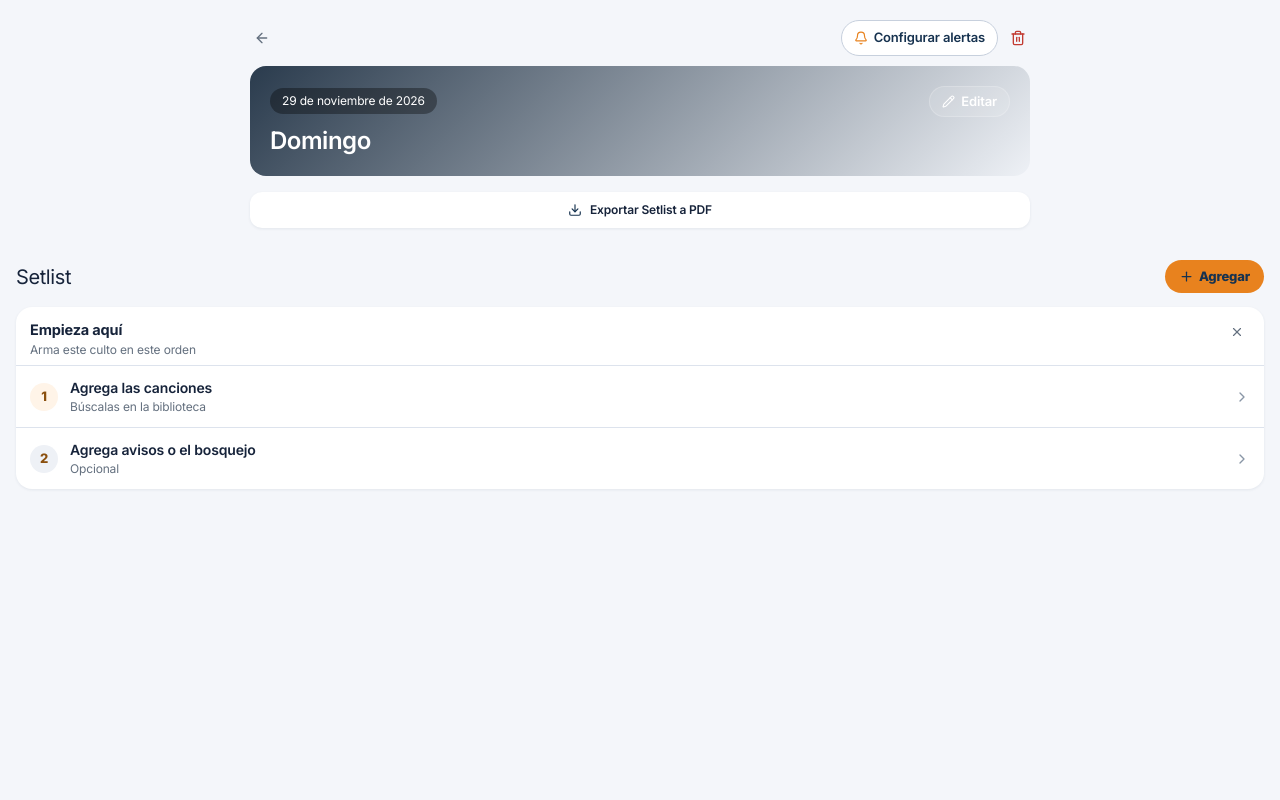
Test case: Crear canción desde el setlist › la X borra lo escrito en el buscador
Click the button "Agregar" at (1214, 277), box [1165,260,1264,293]
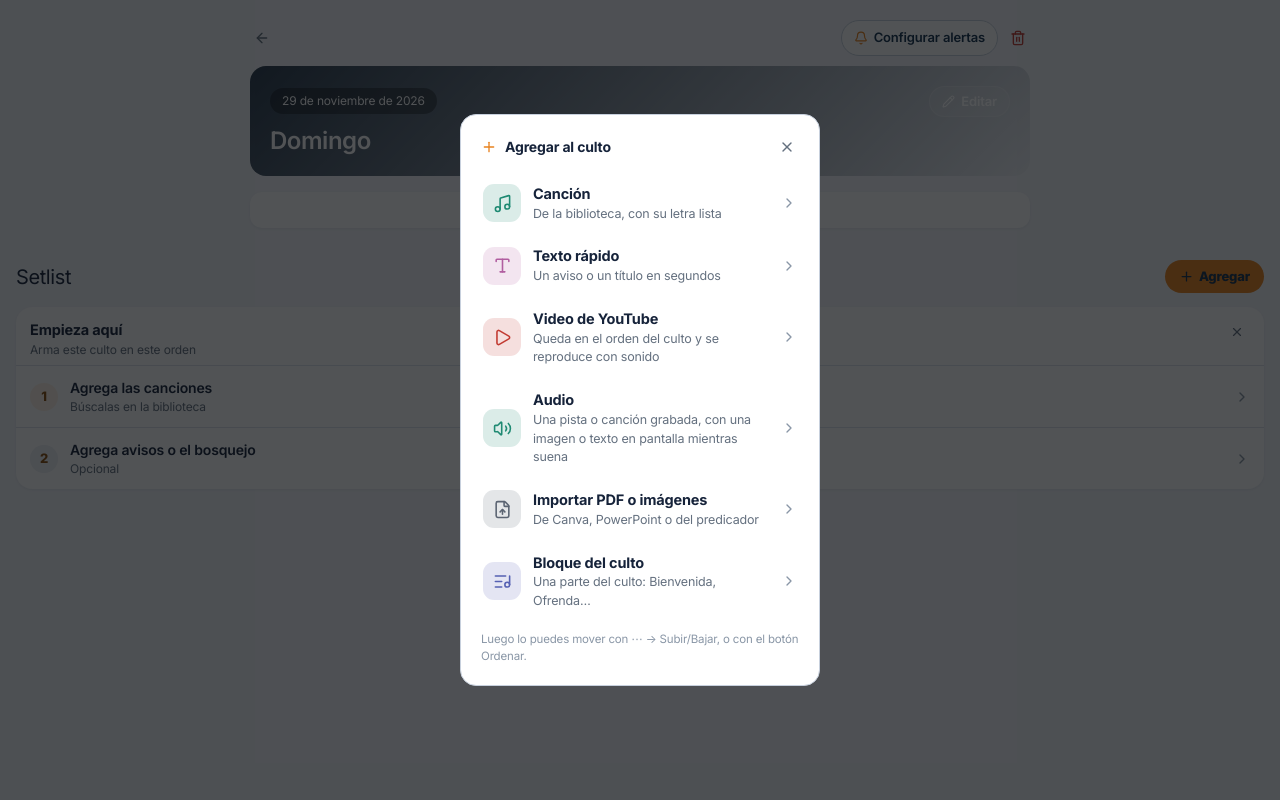
Click the button "Canción De la biblioteca, con su letra lista" at (640, 203), box [475,173,805,233]
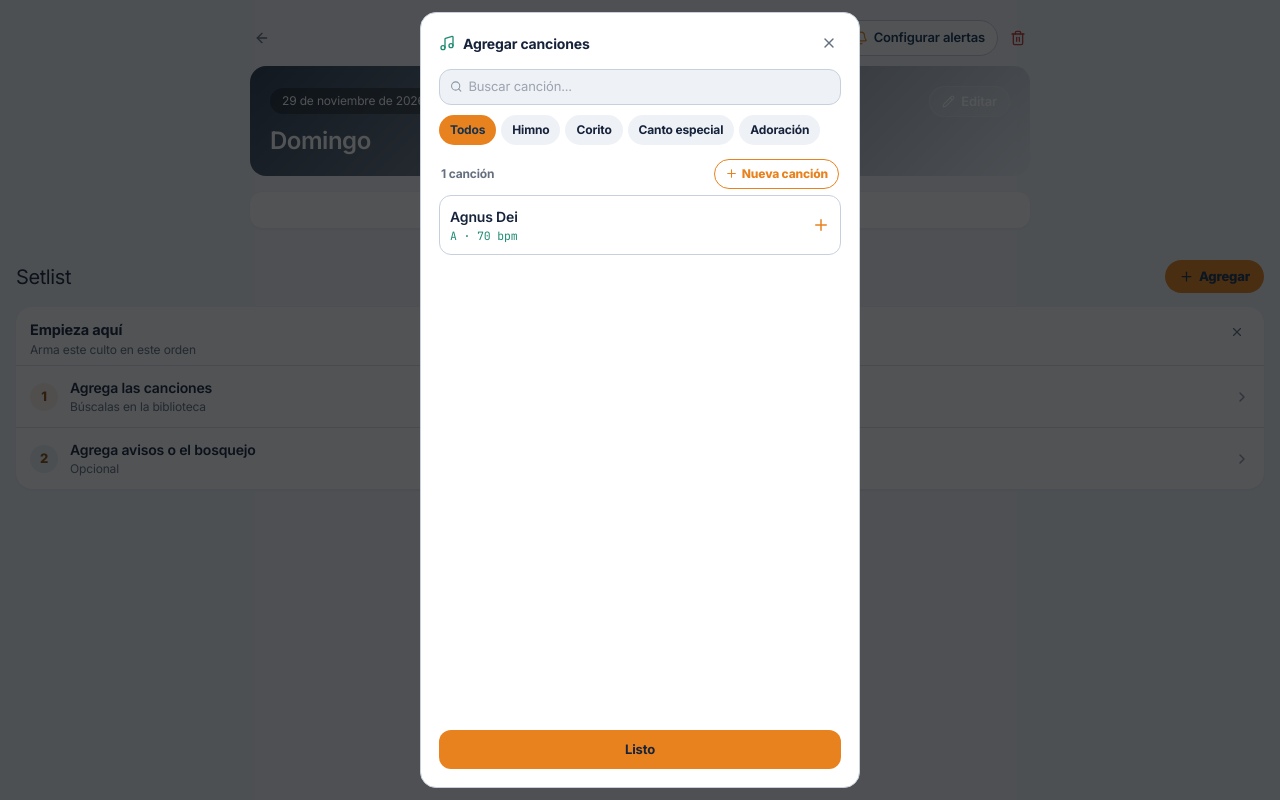
Type "agnus" into the field with placeholder "Buscar canción..." at (649, 87), box [468,77,830,96]
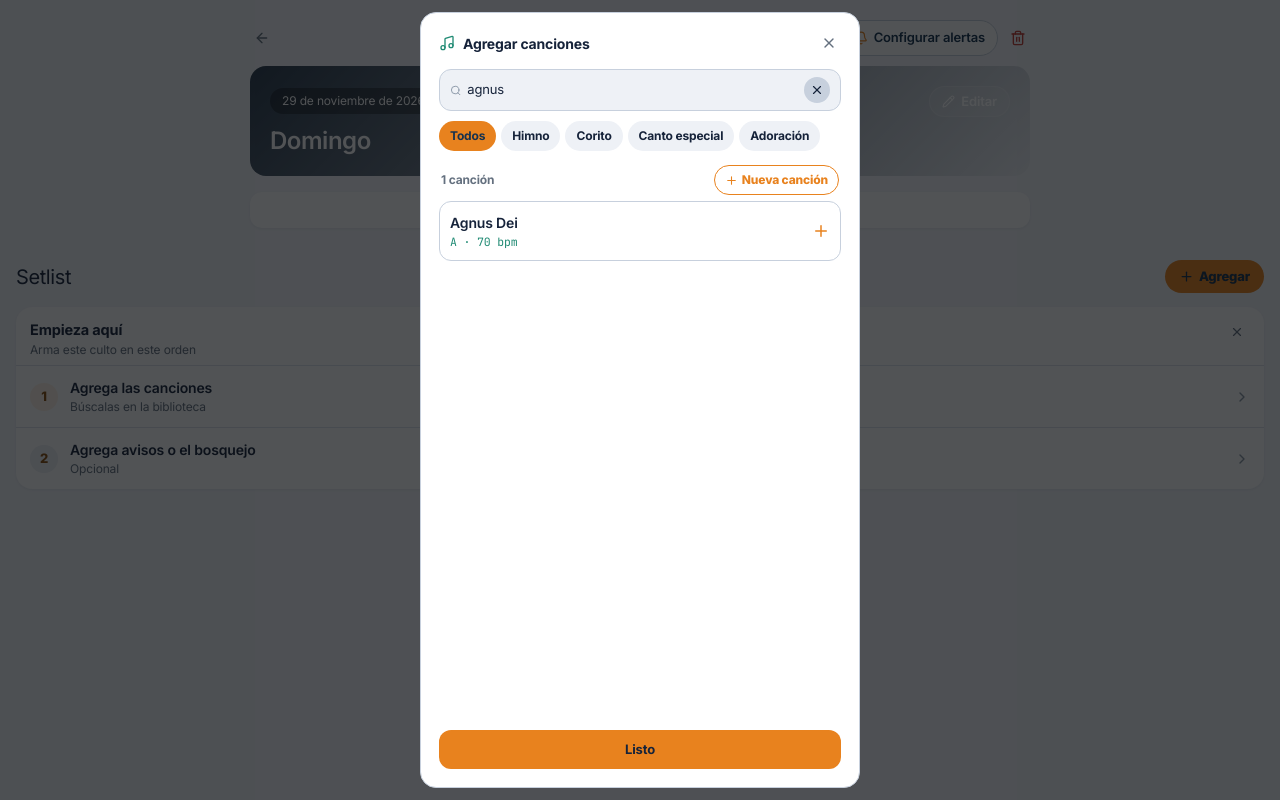
Click the button named "Borrar búsqueda" at (817, 90), box [804,77,830,103]
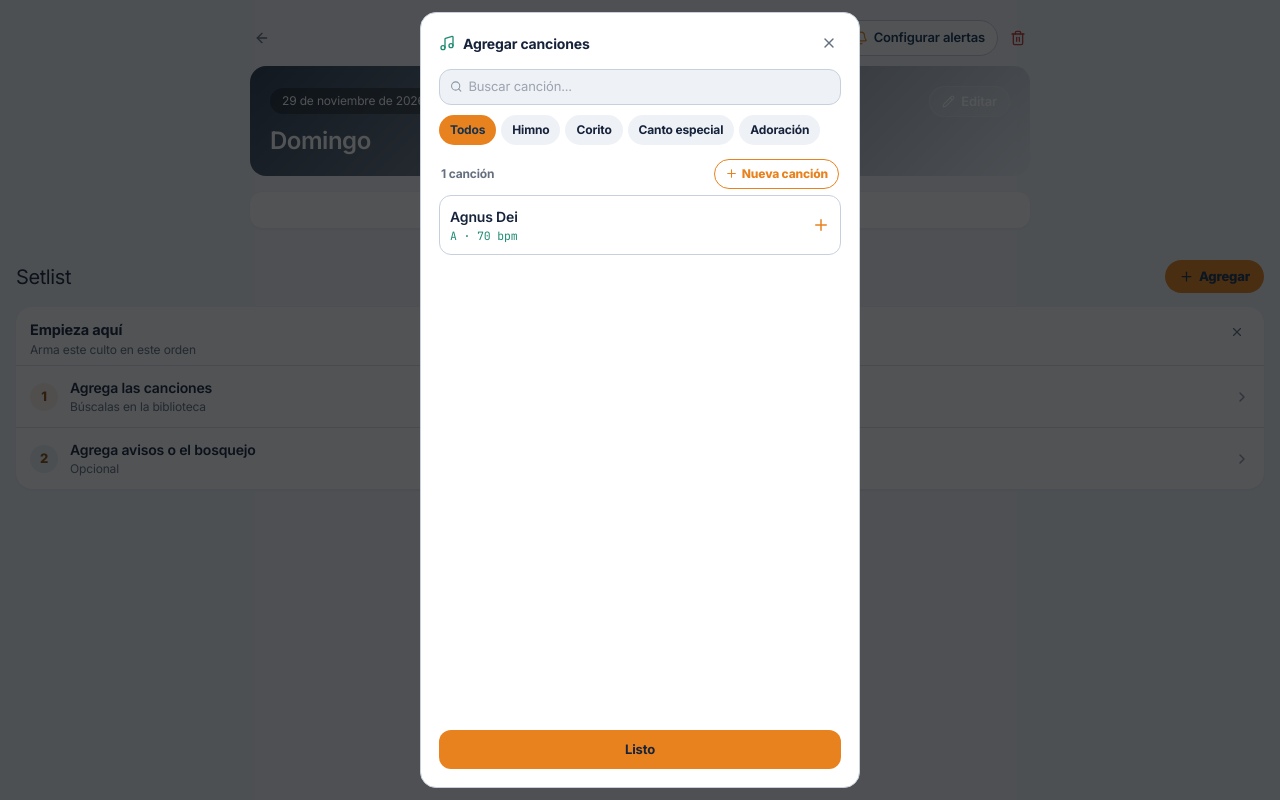
Now the field with placeholder "Buscar canción..." is empty, box [468,77,830,96]
